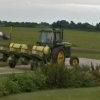Tractor: (13, 27, 100, 75)
